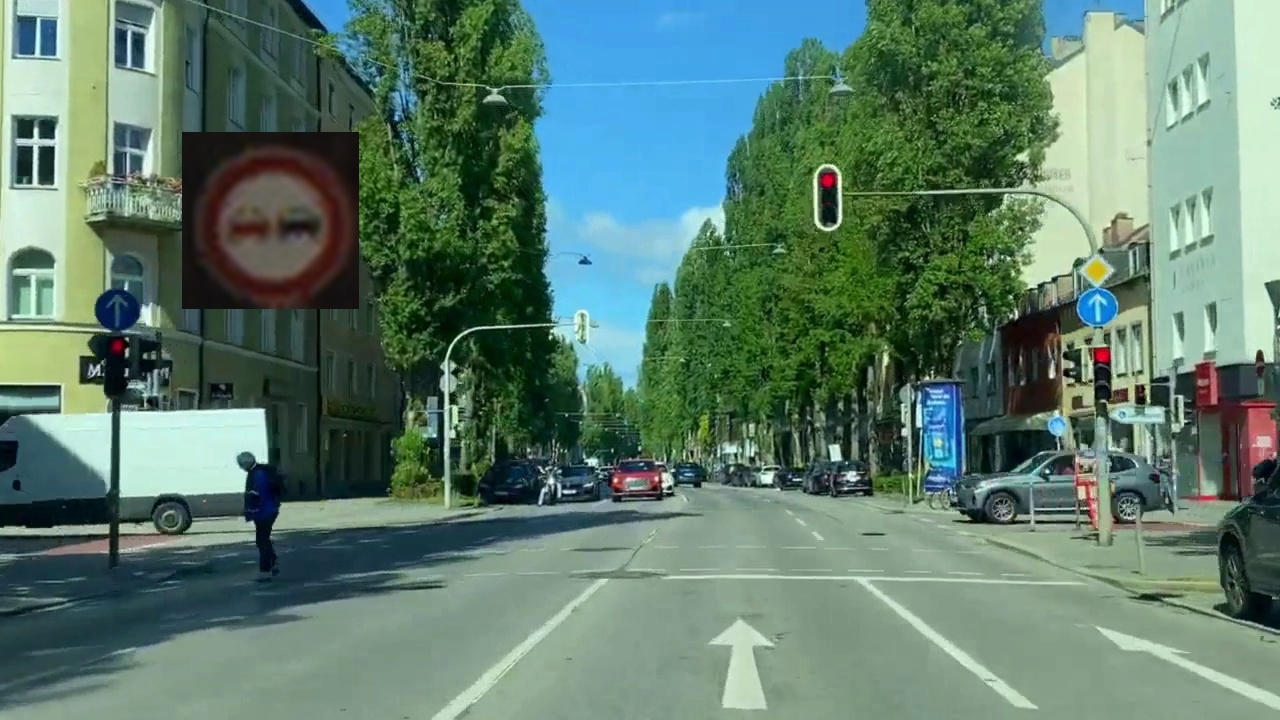No passing: (182, 132, 359, 309)
